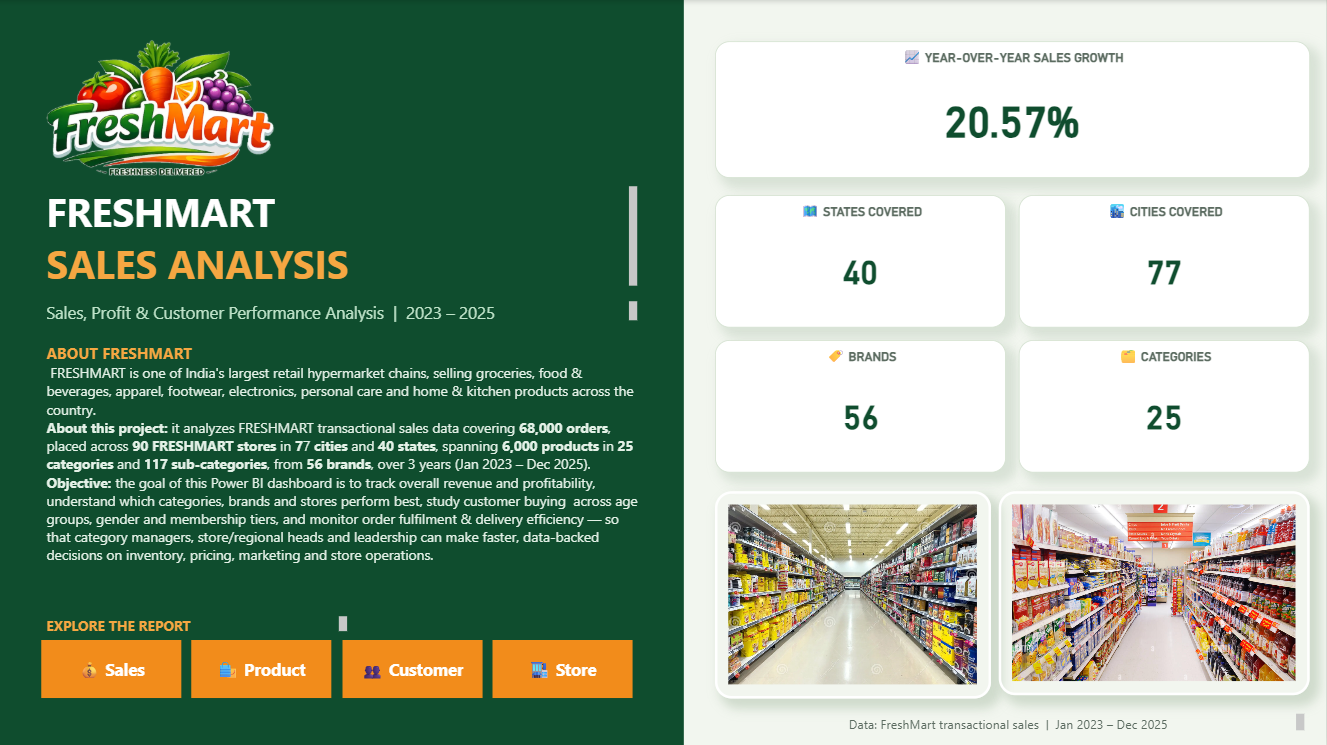

The page's visual inventory and layout, read from the dashboard file:
{"tool":"powerbi","page":{"name":"INTRODUCTION","canvas":[1280,720],"ordinal":0},"visuals":[{"type":"textbox","box":[0,0,660,720],"z":0},{"type":"image","box":[40,34,230,141],"z":1000},{"type":"textbox","box":[39.8,174.9,580.3,107.4],"z":2000},{"type":"textbox","box":[40,286,580,30],"z":3000},{"type":"textbox","box":[40,326,585,262],"z":4000},{"type":"textbox","box":[40,590,300,24],"z":5000},{"type":"actionButton","box":[40,618,135,56],"z":6000},{"type":"actionButton","box":[185,618,135,56],"z":7000},{"type":"actionButton","box":[330,618,135,56],"z":8000},{"type":"actionButton","box":[475,618,135,56],"z":9000},{"type":"cardVisual","title":"📈 YEAR-OVER-YEAR SALES GROWTH","fields":{"Data":["FreshMart_Sales_Analysis.Yoy_sales_growth"]},"box":[690,40,574,132],"z":10000},{"type":"cardVisual","title":"🗺️ STATES COVERED","fields":{"Data":["FreshMart_Sales_Analysis.Total_State_Covered"]},"box":[690,188,281,128],"z":11000},{"type":"cardVisual","title":"🏙️ CITIES COVERED","fields":{"Data":["FreshMart_Sales_Analysis.Total_city_covered"]},"box":[983,188,281,128],"z":12000},{"type":"cardVisual","title":"🏷️ BRANDS","fields":{"Data":["FreshMart_Sales_Analysis.Total_brand"]},"box":[690,328,281,128],"z":13000},{"type":"cardVisual","title":"🗂️ CATEGORIES","fields":{"Data":["FreshMart_Sales_Analysis.Total_category"]},"box":[983,328,281,128],"z":14000},{"type":"image","box":[690,474,266,200],"z":15000},{"type":"image","box":[964,474,300,197],"z":16000},{"type":"textbox","box":[690,684,574,26],"z":17000}]}

Visuals, with their boxes in screenshot pixels (x1, y1, x2, y2), scaled from the page's 1280x720 canvas onto the 1327x745 screenshot:
textbox: bbox=[0, 0, 684, 744]
image: bbox=[41, 35, 280, 181]
textbox: bbox=[41, 181, 643, 292]
textbox: bbox=[41, 296, 643, 327]
textbox: bbox=[41, 337, 648, 608]
textbox: bbox=[41, 610, 352, 635]
actionButton: bbox=[41, 639, 181, 697]
actionButton: bbox=[192, 639, 332, 697]
actionButton: bbox=[342, 639, 482, 697]
actionButton: bbox=[492, 639, 632, 697]
"📈 YEAR-OVER-YEAR SALES GROWTH" cardVisual: bbox=[715, 41, 1310, 178]
"🗺️ STATES COVERED" cardVisual: bbox=[715, 195, 1007, 327]
"🏙️ CITIES COVERED" cardVisual: bbox=[1019, 195, 1310, 327]
"🏷️ BRANDS" cardVisual: bbox=[715, 339, 1007, 472]
"🗂️ CATEGORIES" cardVisual: bbox=[1019, 339, 1310, 472]
image: bbox=[715, 490, 991, 697]
image: bbox=[999, 490, 1310, 694]
textbox: bbox=[715, 708, 1310, 735]
